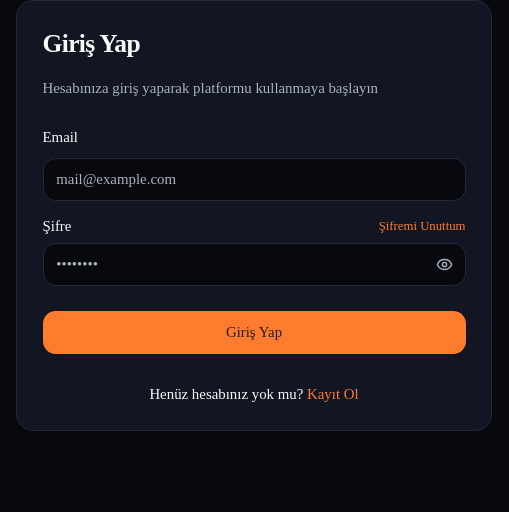
Test: LoginForm › shows error message on login failure
Note: Fill the form
Type "test@example.com" into the field labelled "Email" at point(254, 180), box [42,158,466,201]
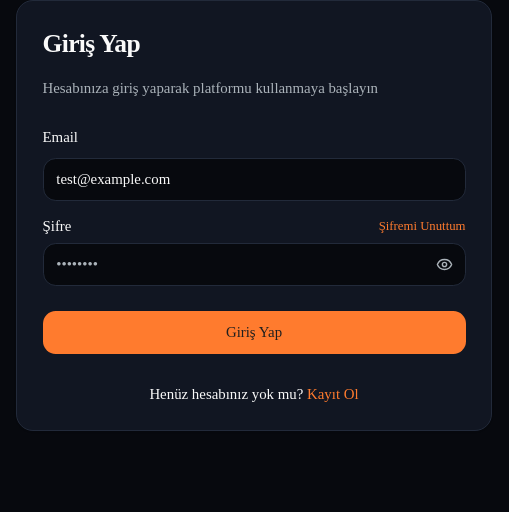
Type "wrong-password" into the password field labelled "Şifre" at point(254, 265), box [42,243,466,286]
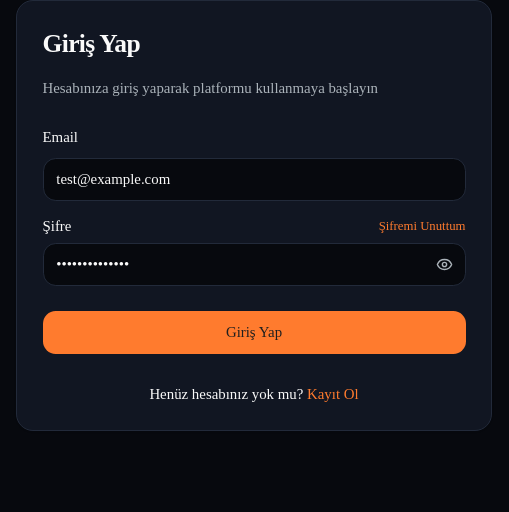
Note: Submit the form
Click the button "Giriş Yap" at point(254, 333), box [42,311,466,354]
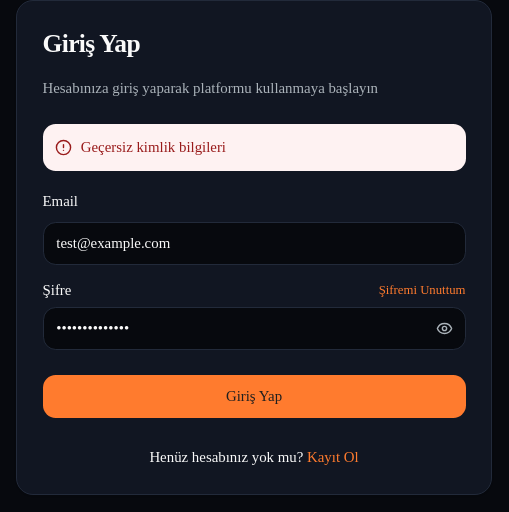
Check: the text "Geçersiz kimlik bilgileri" is shown, box [81,137,226,158]
